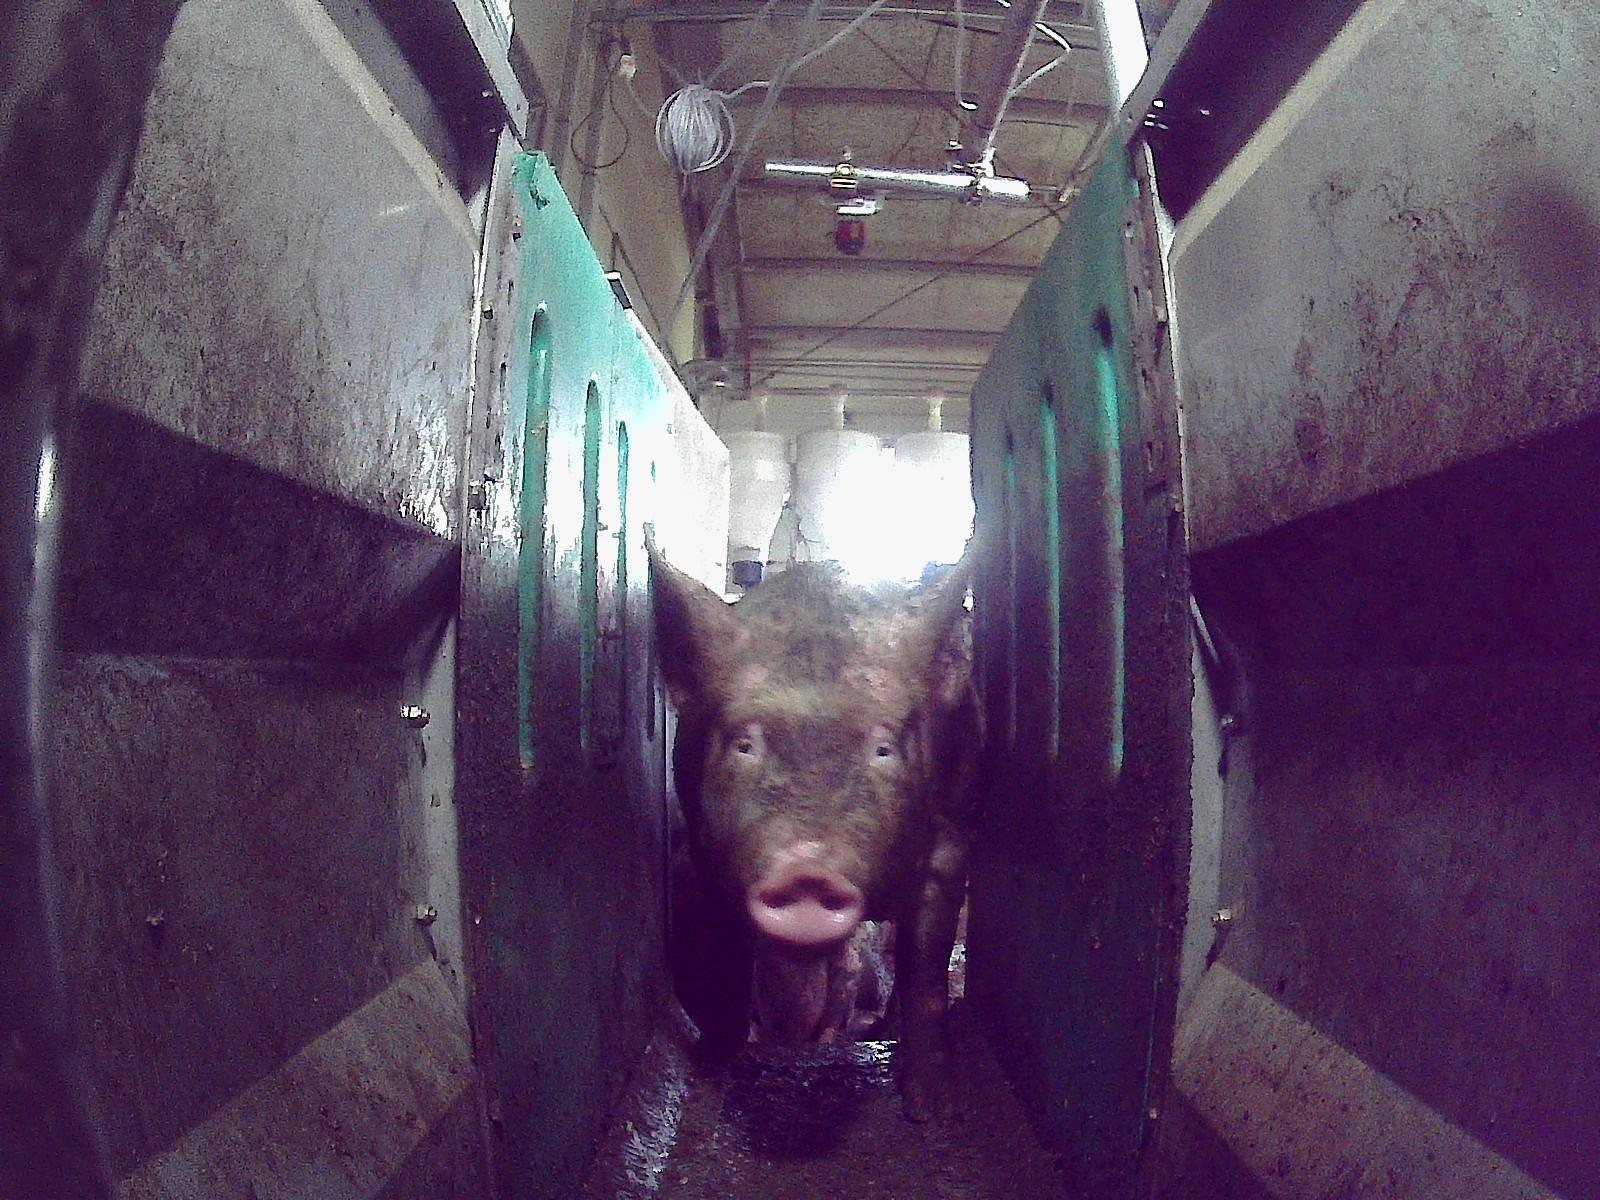Face: (691, 608, 927, 945)
